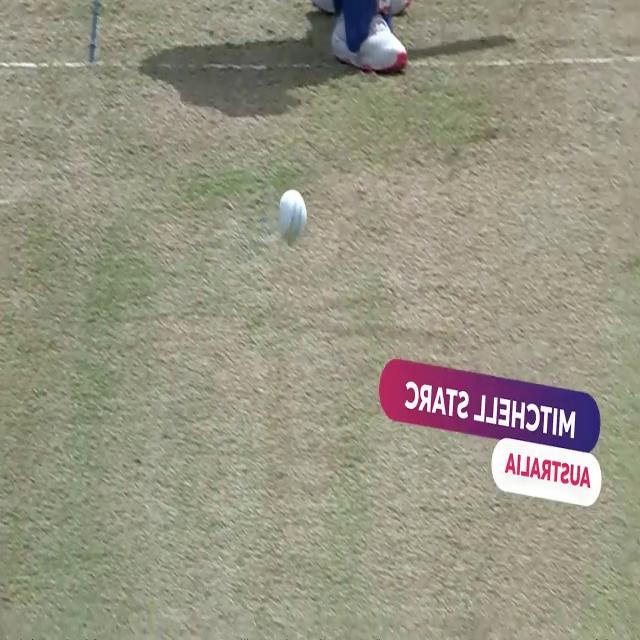ball: (277, 188, 309, 245)
